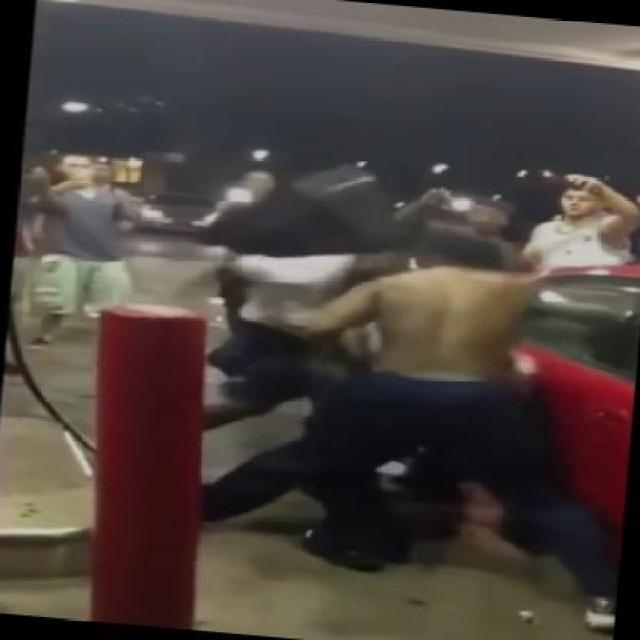fight: (165, 154, 640, 638)
